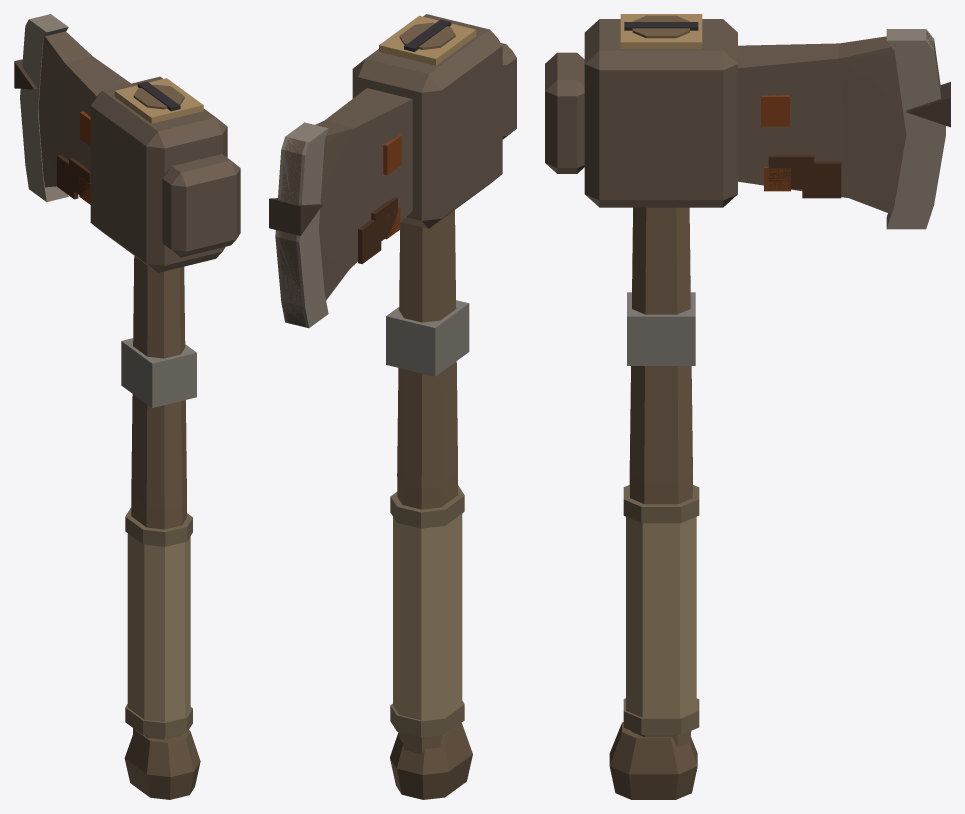
The model's file is RustyAxe.glb.
3 renders of one model, left to right at view 1: azimuth 30°, elevation 25°; view 2: azimuth 150°, elevation 25°; view 3: azimuth 270°, elevation 25°, orthographic. The views are drawn at different scales.
Parts seen in each view (by area): view 1: Handle, Head; view 2: Head, Handle; view 3: Head, Handle.
Boxes of the visible parts, left/top/right/bottom form: Handle: left=114, top=78, right=203, bottom=799; Head: left=14, top=14, right=240, bottom=272; Head: left=269, top=14, right=516, bottom=328; Handle: left=379, top=15, right=476, bottom=799; Head: left=545, top=19, right=950, bottom=229; Handle: left=609, top=14, right=702, bottom=799.
Size of the model in its own units: 0.4452 by 3.61 by 1.74.
